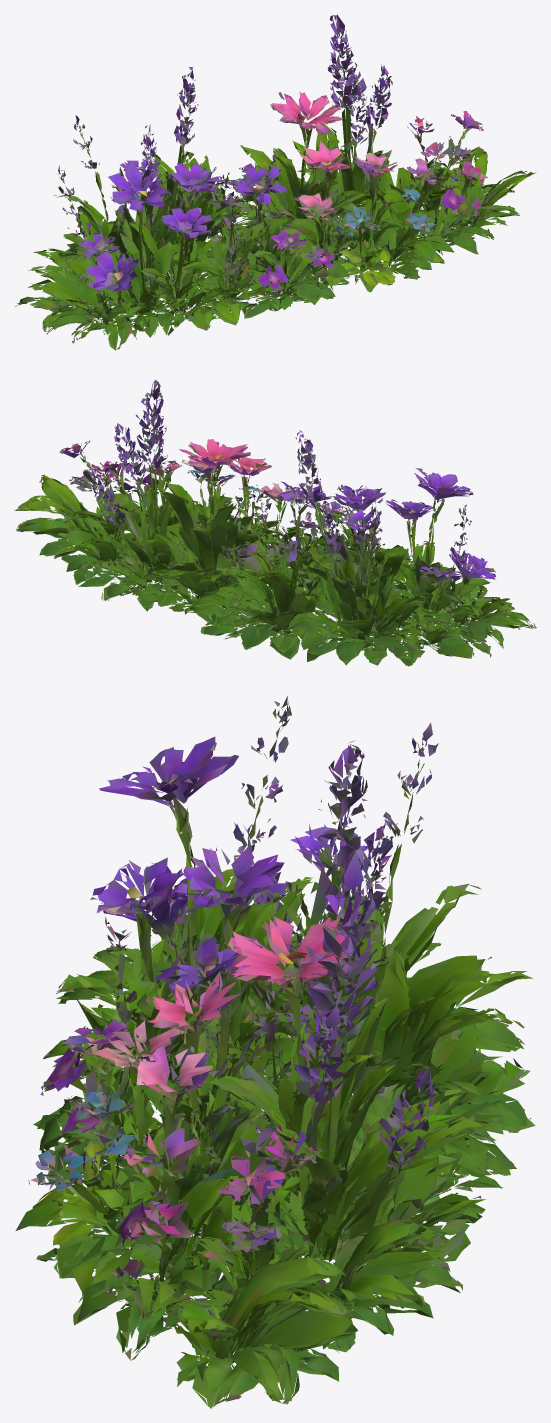
Rendered from vibrant-bloom.glb.
The picture shows the model from 3 angles, top to bottom: view 1: azimuth 30°, elevation 25°; view 2: azimuth 150°, elevation 25°; view 3: azimuth 270°, elevation 25°; orthographic projection. The views are drawn at different scales.
Visible parts, largest first — view 1: mesh_node; view 2: mesh_node; view 3: mesh_node.
Boxes of the visible parts, x1=… form: mesh_node: x1=15, y1=14, x2=536, y2=350; mesh_node: x1=14, y1=379, x2=536, y2=666; mesh_node: x1=15, y1=696, x2=535, y2=1408.
Bounding box in the file's own units: 1.9 × 0.7931 × 0.8683.
Materials: 1 (1 with a texture image).
